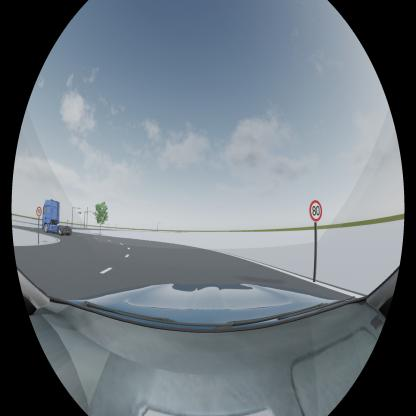Speed Limit 80: (309, 199, 322, 222)
Speed Limit 90: (36, 206, 42, 216)
